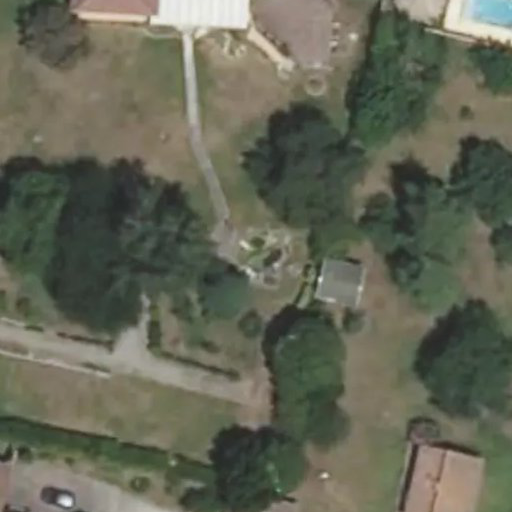pool: (223, 228, 284, 249)
